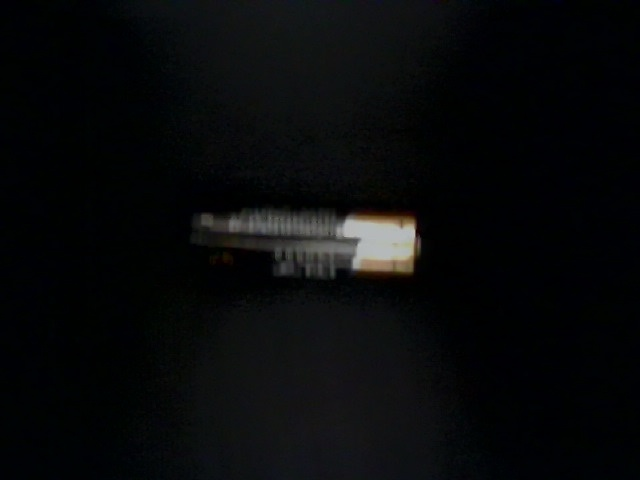QTLJ: (479, 364, 639, 480)
